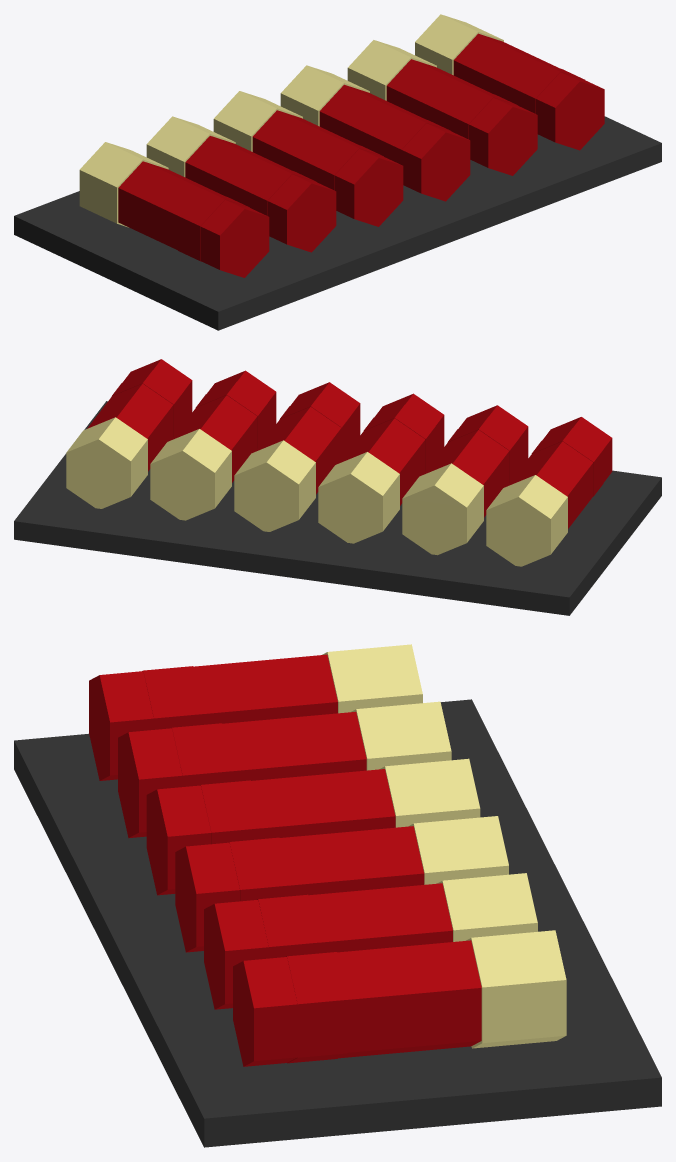
File: ce_ammo_shotgun_shot_b.obj
The picture shows the model from 3 angles, top to bottom: view 1: azimuth 30°, elevation 25°; view 2: azimuth 150°, elevation 25°; view 3: azimuth 270°, elevation 25°; orthographic projection. The views are drawn at different scales.
Parts seen in each view (by area): view 1: ce_ammo_shotgun_shot_b_0, ce_ammo_shotgun_shot_b_2, ce_ammo_shotgun_shot_b_4, ce_ammo_shotgun_shot_b_16, ce_ammo_shotgun_shot_b_12, ce_ammo_shotgun_shot_b_8, ce_ammo_shotgun_shot_b_24, ce_ammo_shotgun_shot_b_20, ce_ammo_shotgun_shot_b_18, ce_ammo_shotgun_shot_b_14, ce_ammo_shotgun_shot_b_22, ce_ammo_shotgun_shot_b_6 (+13 smaller); view 2: ce_ammo_shotgun_shot_b_0, ce_ammo_shotgun_shot_b_5, ce_ammo_shotgun_shot_b_1, ce_ammo_shotgun_shot_b_13, ce_ammo_shotgun_shot_b_17, ce_ammo_shotgun_shot_b_21, ce_ammo_shotgun_shot_b_9, ce_ammo_shotgun_shot_b_2, ce_ammo_shotgun_shot_b_18, ce_ammo_shotgun_shot_b_14, ce_ammo_shotgun_shot_b_6, ce_ammo_shotgun_shot_b_10 (+13 smaller); view 3: ce_ammo_shotgun_shot_b_0, ce_ammo_shotgun_shot_b_22, ce_ammo_shotgun_shot_b_21, ce_ammo_shotgun_shot_b_6, ce_ammo_shotgun_shot_b_14, ce_ammo_shotgun_shot_b_10, ce_ammo_shotgun_shot_b_18, ce_ammo_shotgun_shot_b_2, ce_ammo_shotgun_shot_b_24, ce_ammo_shotgun_shot_b_23, ce_ammo_shotgun_shot_b_5, ce_ammo_shotgun_shot_b_13 (+13 smaller).
Boxes of the visible parts, x1=… form: ce_ammo_shotgun_shot_b_0: x1=14, y1=116, x2=661, y2=330; ce_ammo_shotgun_shot_b_2: x1=118, y1=161, x2=223, y2=250; ce_ammo_shotgun_shot_b_4: x1=200, y1=200, x2=269, y2=277; ce_ammo_shotgun_shot_b_16: x1=401, y1=123, x2=470, y2=201; ce_ammo_shotgun_shot_b_12: x1=334, y1=149, x2=403, y2=226; ce_ammo_shotgun_shot_b_8: x1=267, y1=174, x2=336, y2=252; ce_ammo_shotgun_shot_b_24: x1=536, y1=72, x2=604, y2=150; ce_ammo_shotgun_shot_b_20: x1=469, y1=98, x2=537, y2=175; ce_ammo_shotgun_shot_b_18: x1=386, y1=59, x2=491, y2=128; ce_ammo_shotgun_shot_b_14: x1=319, y1=84, x2=424, y2=153; ce_ammo_shotgun_shot_b_22: x1=453, y1=33, x2=558, y2=102; ce_ammo_shotgun_shot_b_6: x1=185, y1=136, x2=289, y2=204; ce_ammo_shotgun_shot_b_0: x1=14, y1=401, x2=661, y2=615; ce_ammo_shotgun_shot_b_5: x1=402, y1=463, x2=483, y2=555; ce_ammo_shotgun_shot_b_1: x1=486, y1=475, x2=567, y2=566; ce_ammo_shotgun_shot_b_13: x1=234, y1=440, x2=315, y2=531; ce_ammo_shotgun_shot_b_17: x1=150, y1=429, x2=231, y2=520; ce_ammo_shotgun_shot_b_21: x1=66, y1=417, x2=147, y2=508; ce_ammo_shotgun_shot_b_9: x1=318, y1=452, x2=399, y2=543; ce_ammo_shotgun_shot_b_2: x1=507, y1=441, x2=593, y2=528; ce_ammo_shotgun_shot_b_18: x1=171, y1=395, x2=257, y2=482; ce_ammo_shotgun_shot_b_14: x1=255, y1=406, x2=341, y2=494; ce_ammo_shotgun_shot_b_6: x1=423, y1=430, x2=509, y2=517; ce_ammo_shotgun_shot_b_10: x1=339, y1=418, x2=425, y2=505; ce_ammo_shotgun_shot_b_0: x1=14, y1=699, x2=661, y2=1147; ce_ammo_shotgun_shot_b_22: x1=337, y1=940, x2=481, y2=1058; ce_ammo_shotgun_shot_b_21: x1=465, y1=930, x2=566, y2=1048; ce_ammo_shotgun_shot_b_6: x1=222, y1=711, x2=366, y2=781; ce_ammo_shotgun_shot_b_14: x1=279, y1=826, x2=424, y2=896; ce_ammo_shotgun_shot_b_10: x1=251, y1=769, x2=395, y2=838; ce_ammo_shotgun_shot_b_18: x1=308, y1=883, x2=452, y2=953; ce_ammo_shotgun_shot_b_2: x1=193, y1=654, x2=337, y2=724; ce_ammo_shotgun_shot_b_24: x1=233, y1=957, x2=297, y2=1066; ce_ammo_shotgun_shot_b_23: x1=286, y1=952, x2=347, y2=1063; ce_ammo_shotgun_shot_b_5: x1=351, y1=701, x2=451, y2=770; ce_ammo_shotgun_shot_b_13: x1=408, y1=816, x2=508, y2=884.
Size of the model in its own units: 0.9326 by 0.1427 by 0.6092.
